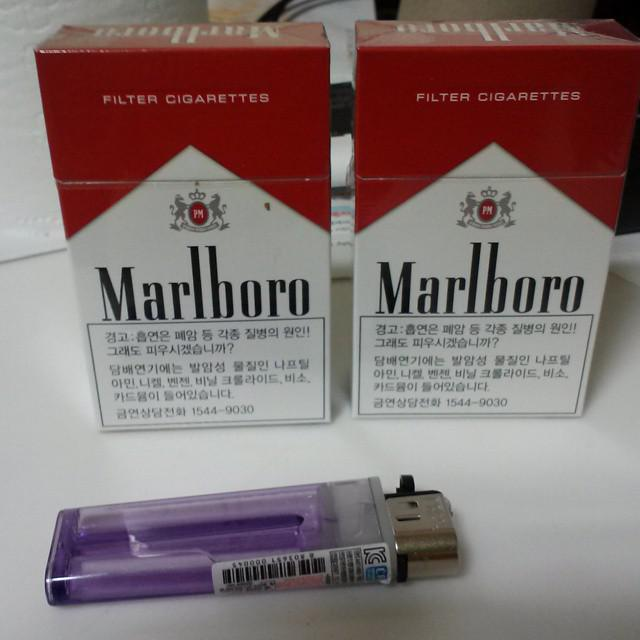marlboro_red: (87, 51, 330, 427), (353, 47, 589, 415)
